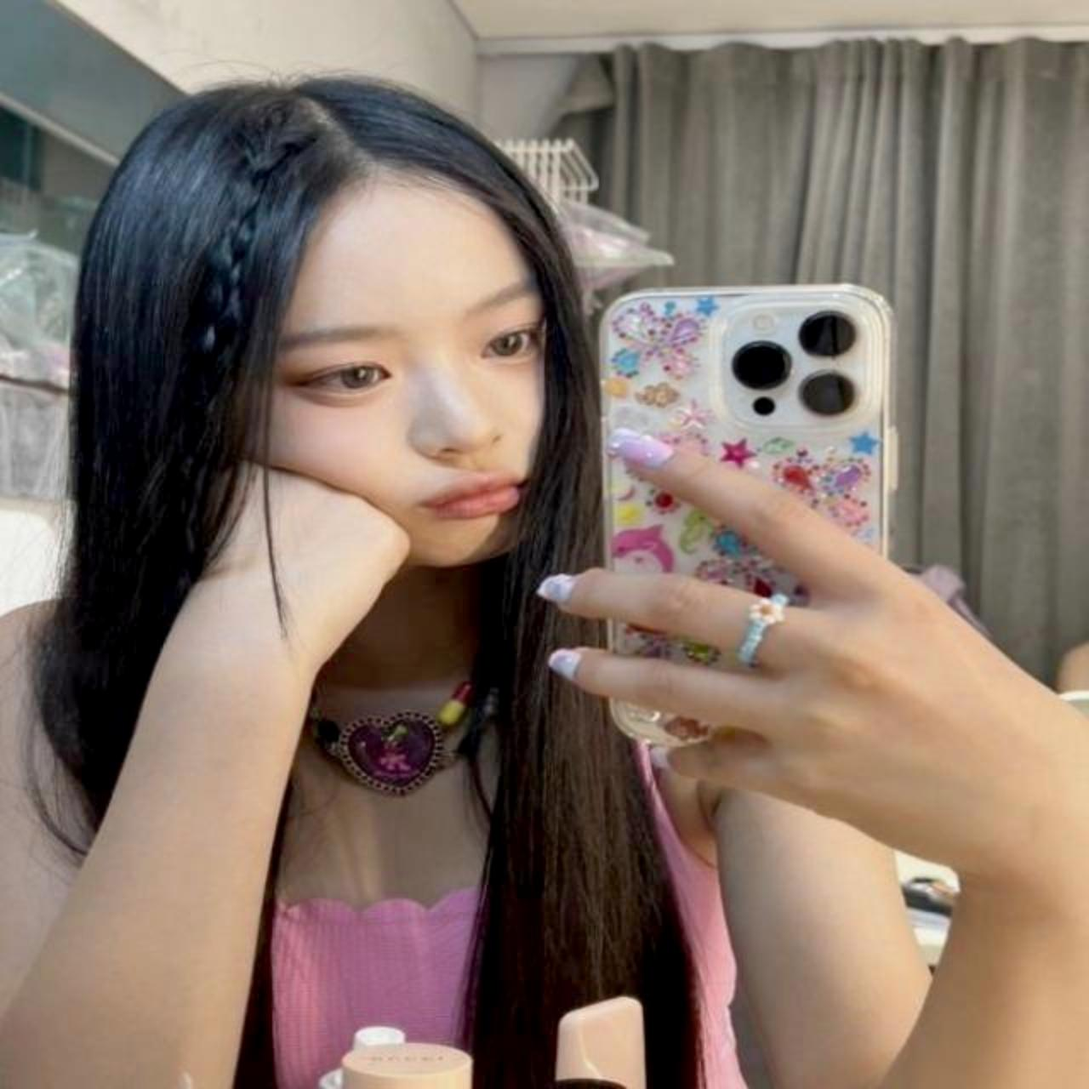phone: (597, 277, 907, 748)
